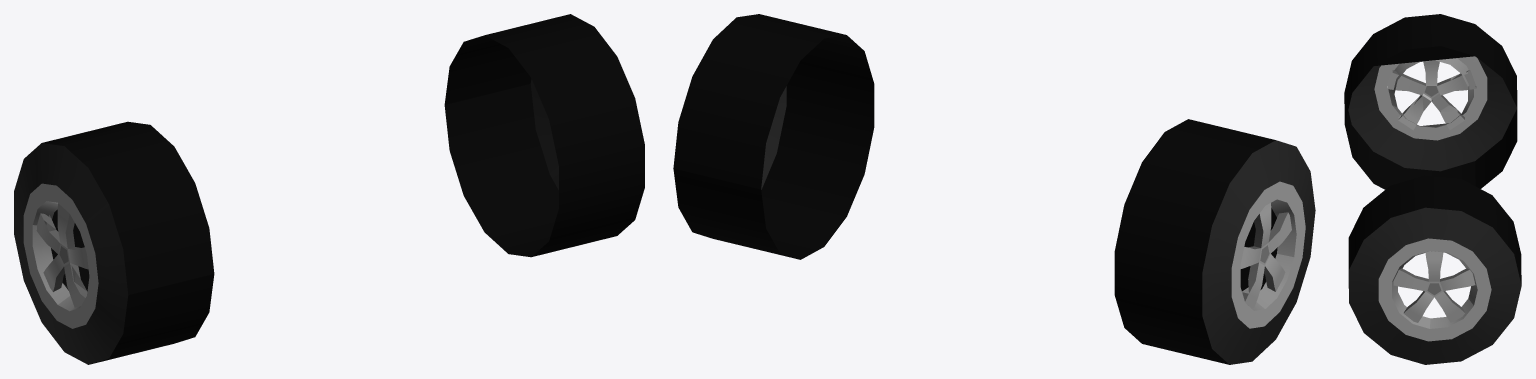
Rendered from Wheels.glb.
The picture shows the model from 3 angles, left to right: view 1: azimuth 30°, elevation 25°; view 2: azimuth 150°, elevation 25°; view 3: azimuth 270°, elevation 25°; orthographic projection. The views are drawn at different scales.
Parts seen in each view (by area): view 1: CarsColor1.003; view 2: CarsColor1.003; view 3: CarsColor1.003.
Part boxes in pixels (x1,y1,x2,y2): CarsColor1.003: [14, 14, 644, 364]; CarsColor1.003: [673, 14, 1315, 364]; CarsColor1.003: [1344, 14, 1521, 364].
Bounding box in the file's own units: 149 × 54.31 × 55.48.
Materials: 1 (1 with a texture image).
